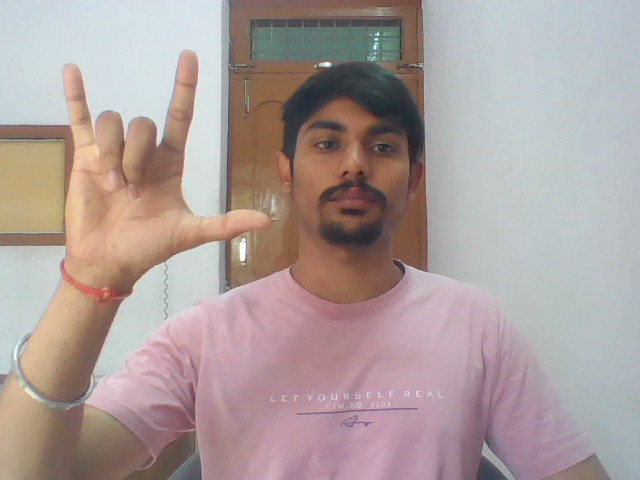I Love You: (43, 43, 271, 264)
